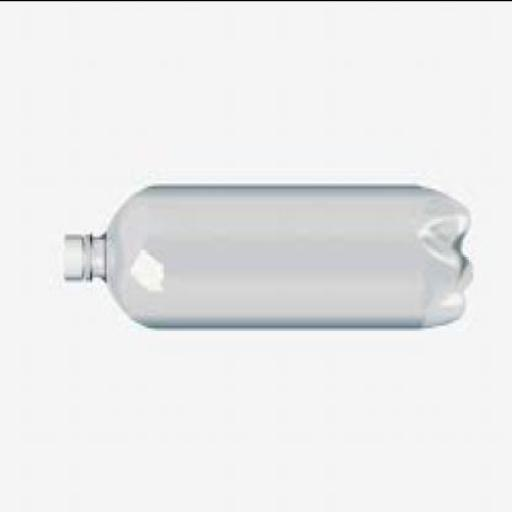plastic: (80, 187, 469, 327), (59, 236, 84, 281)
